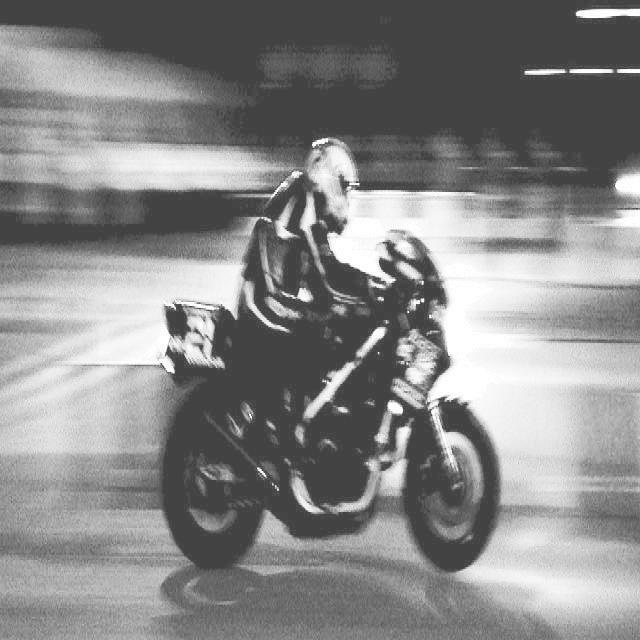Motorcycle: (143, 221, 514, 628)
Person: (235, 131, 386, 426)
